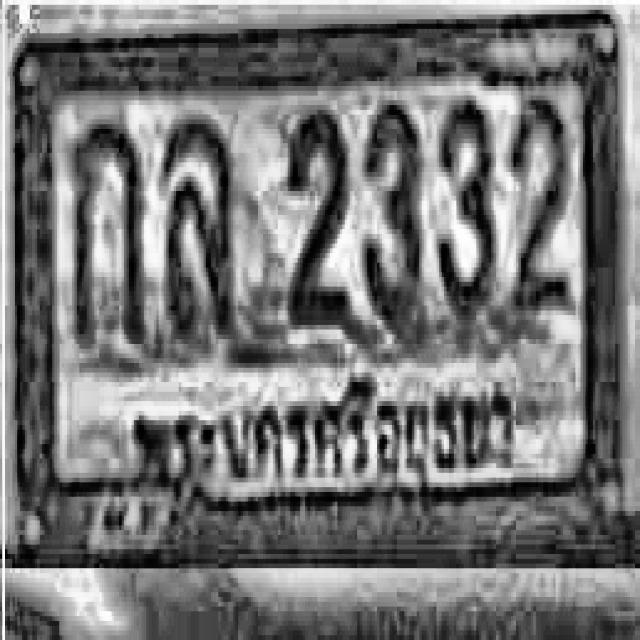license-plate: (10, 26, 629, 571)
